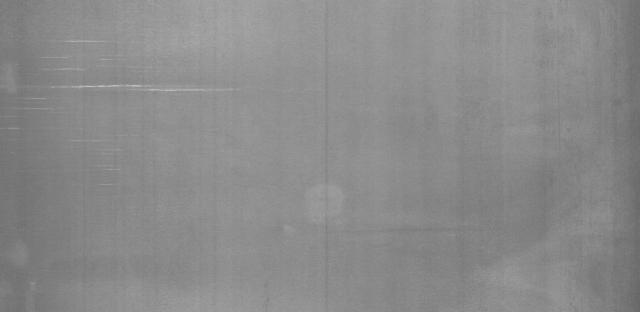waist_folding: (0, 0, 276, 236)
